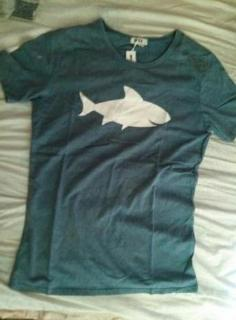short sleeve top: (0, 19, 236, 295)
